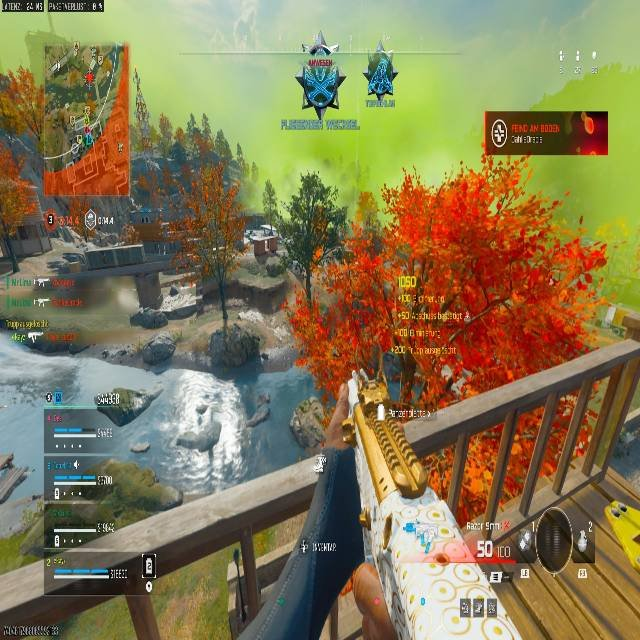player: (293, 43, 346, 119), (364, 47, 395, 103)
